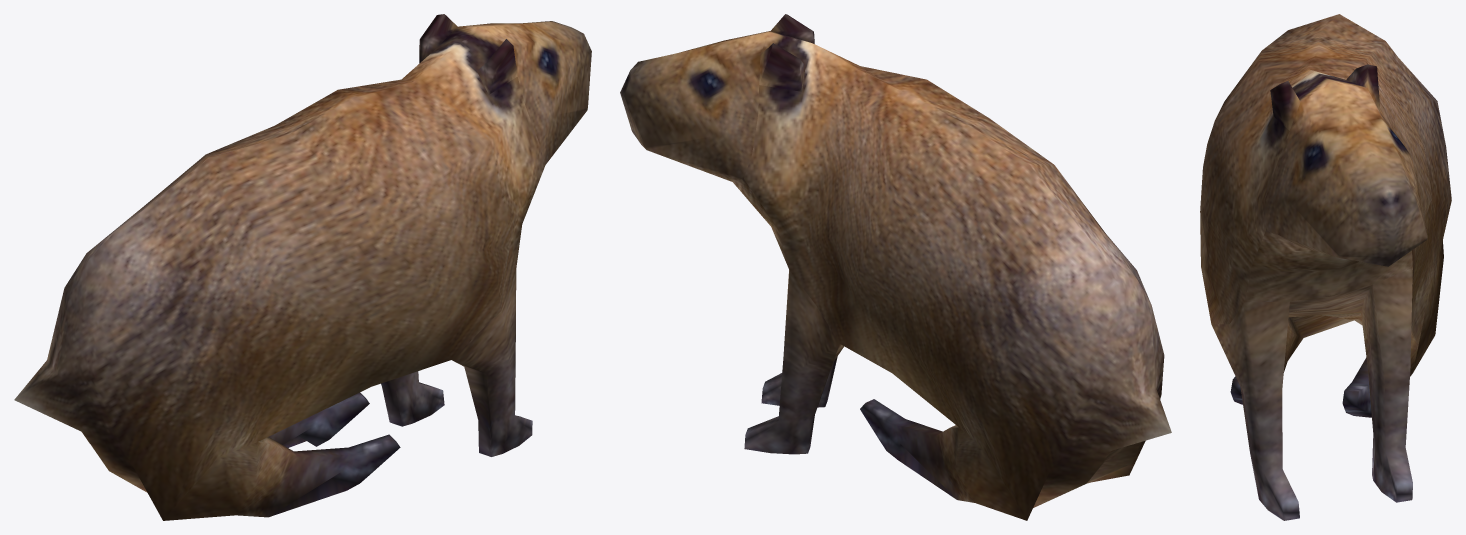
The model's file is carpincho.glb.
The picture shows the model from 3 angles, left to right: view 1: azimuth 30°, elevation 25°; view 2: azimuth 150°, elevation 25°; view 3: azimuth 270°, elevation 25°; orthographic projection. The views are drawn at different scales.
Parts seen in each view (by area): view 1: Plane; view 2: Plane; view 3: Plane.
Boxes of the visible parts, x1,y1,x2,y2 form: Plane: (14,14,591,520); Plane: (620,14,1171,520); Plane: (1200,14,1451,520).
Size of the model in its own units: 0.767 by 0.5352 by 0.2768.
Materials: 1 (1 with a texture image).
